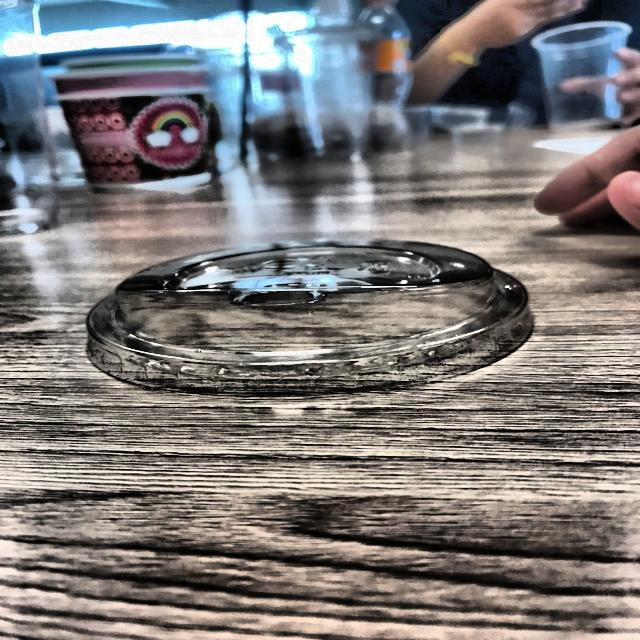plastic cup: (79, 228, 553, 414)
